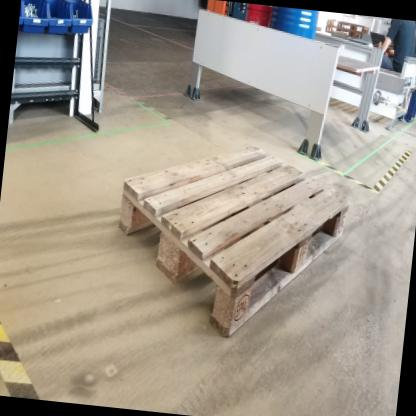BoxFace: (114, 138, 354, 347)
